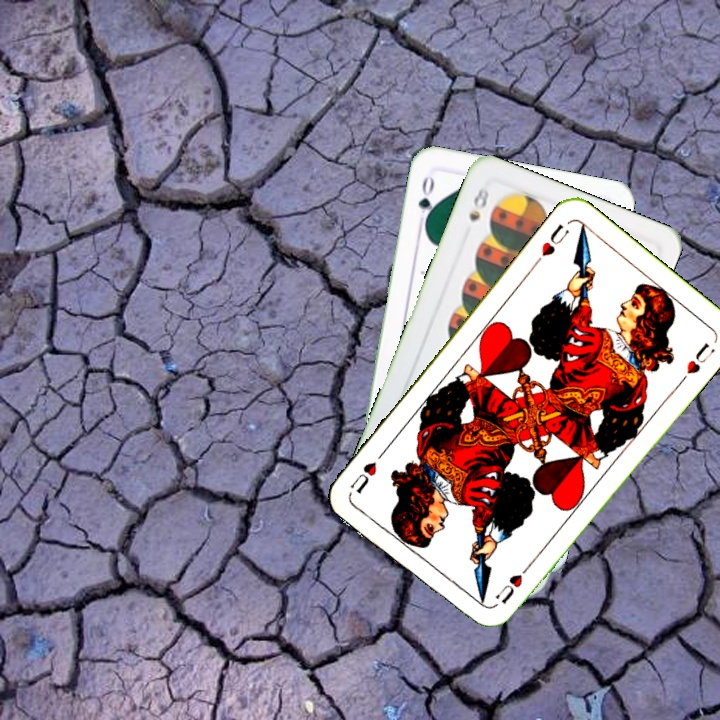GO: (414, 171, 437, 229)
HU: (530, 220, 572, 268), (490, 570, 525, 607)
S8: (465, 182, 492, 224)
